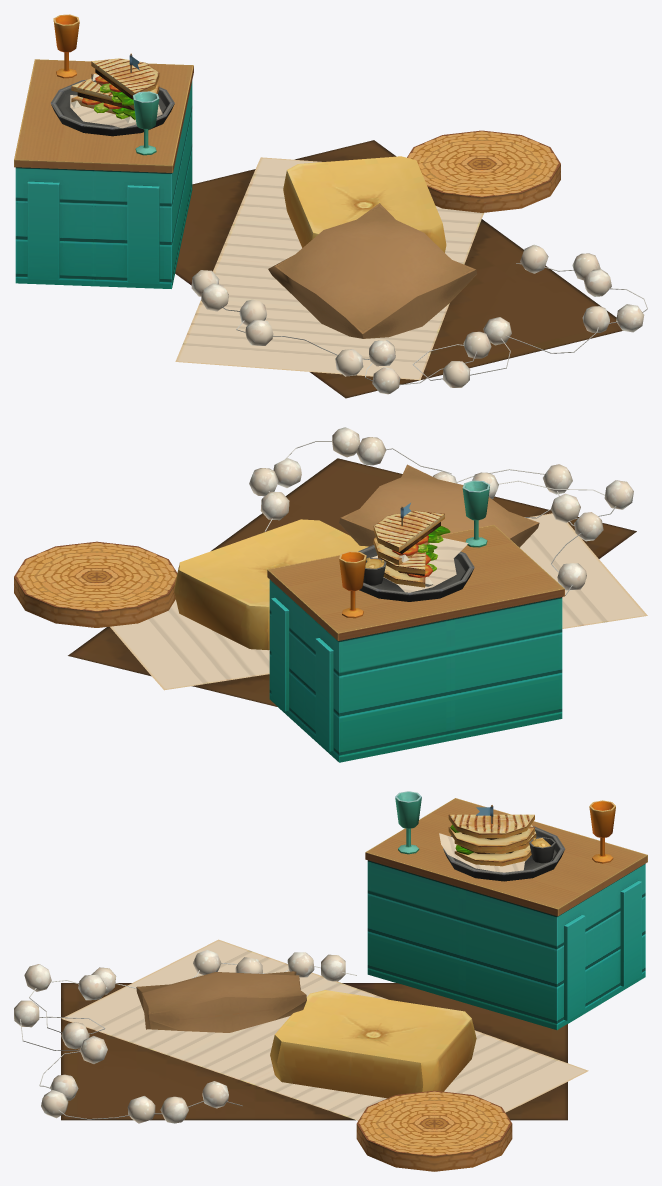
File: my_military_01_carpet_03.glb
3 renders of one model, top to bottom at view 1: azimuth 30°, elevation 25°; view 2: azimuth 150°, elevation 25°; view 3: azimuth 270°, elevation 25°, orthographic. The views are drawn at different scales.
Parts seen in each view (by area): view 1: my_military_01_carpet_03; view 2: my_military_01_carpet_03; view 3: my_military_01_carpet_03.
Part boxes in pixels (x1=…): my_military_01_carpet_03: x1=14, y1=14, x2=647, y2=398; my_military_01_carpet_03: x1=14, y1=427, x2=647, y2=762; my_military_01_carpet_03: x1=14, y1=791, x2=647, y2=1171.
Size of the model in its own units: 0.0132 by 0.00441 by 0.014.
Materials: 2 (2 with a texture image).
